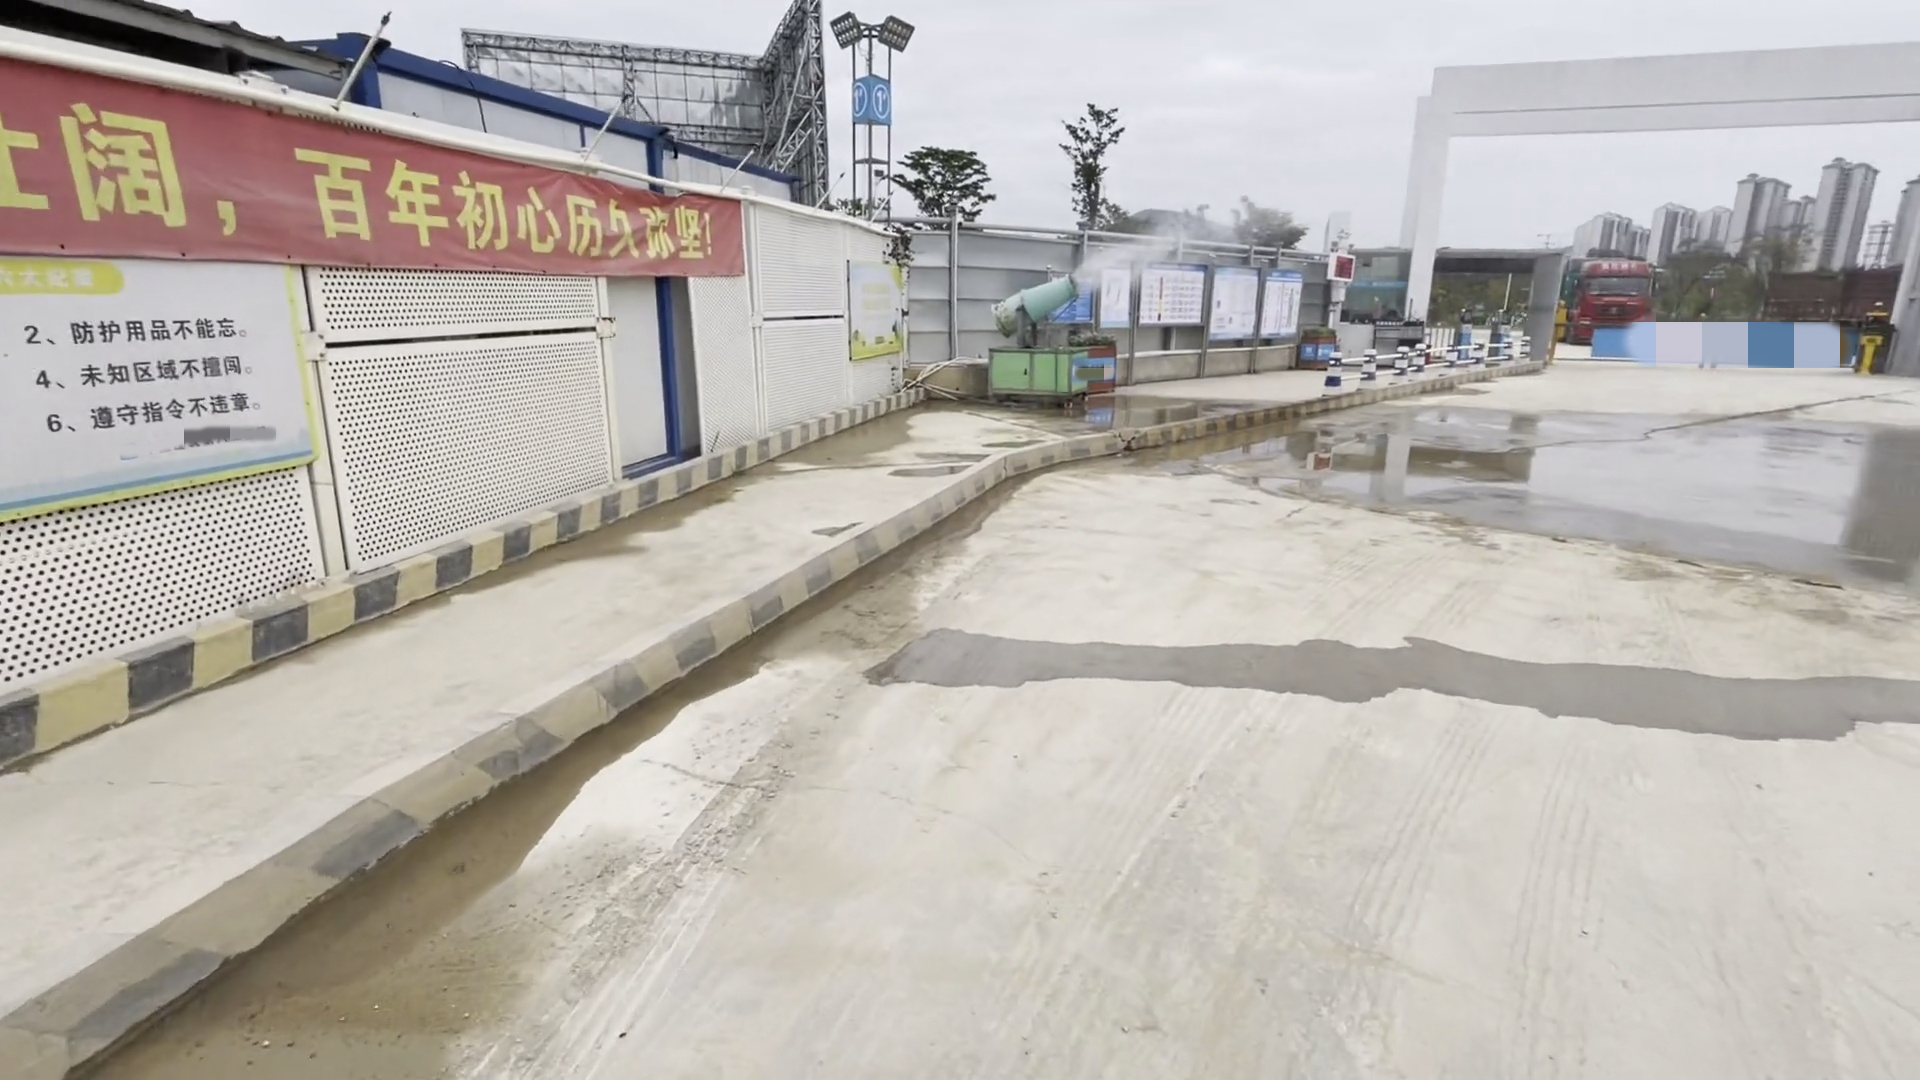slogan: (7, 61, 737, 291), (1, 278, 316, 468)
